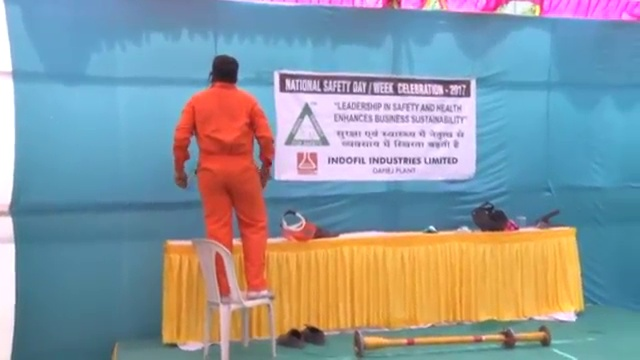helmet_off: (207, 53, 240, 87)
person: (172, 55, 278, 310)
